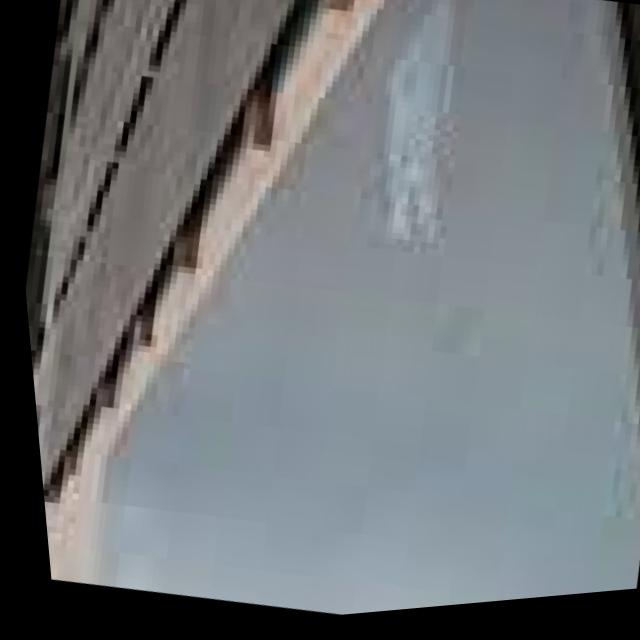metal-plates: (88, 1, 640, 621)
